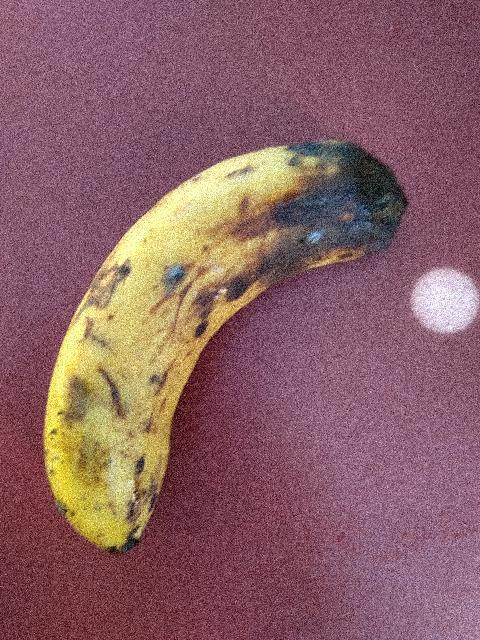rotten: (12, 122, 405, 551)
